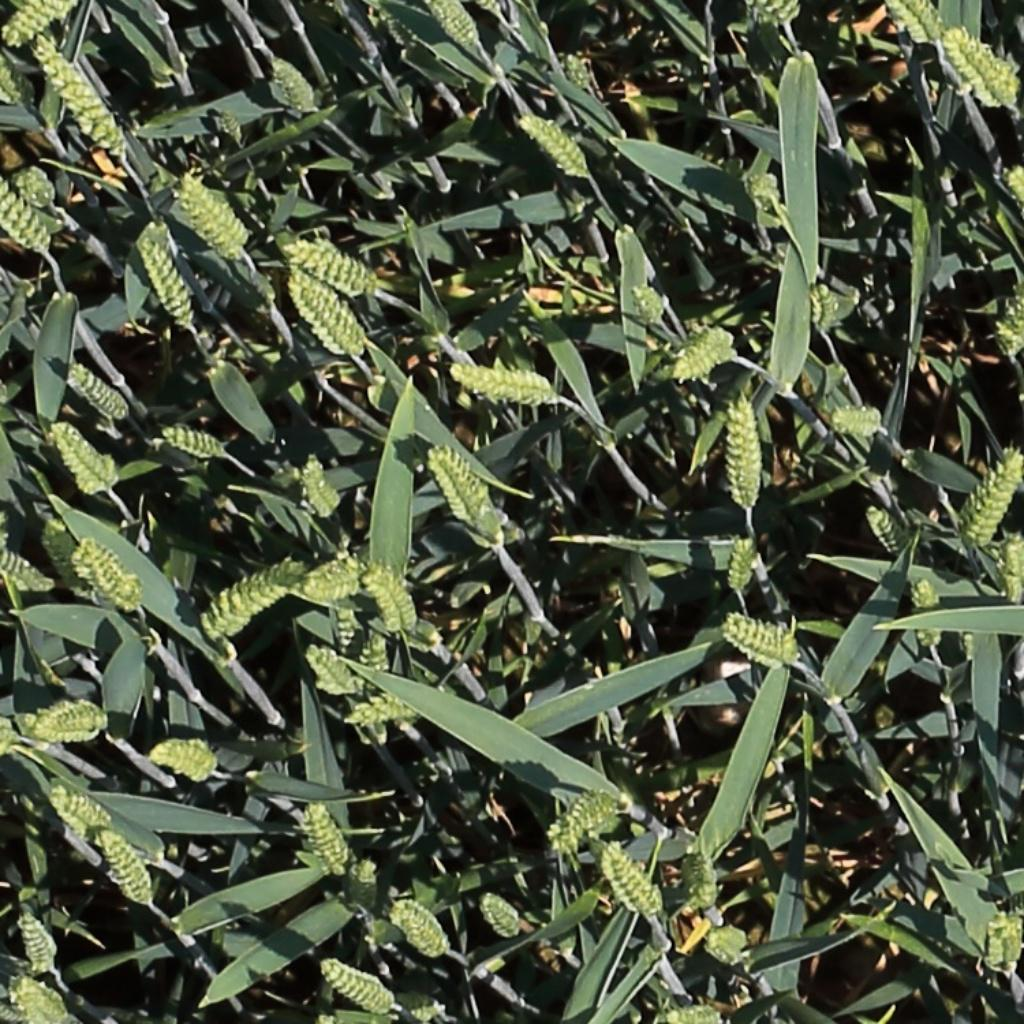0-0: (30, 30, 126, 155), (434, 445, 506, 540), (135, 228, 199, 333), (289, 268, 364, 356), (727, 162, 815, 236), (206, 563, 303, 630), (961, 445, 1022, 551), (946, 24, 1019, 109), (177, 170, 247, 258), (721, 390, 772, 504), (0, 146, 53, 255), (38, 516, 99, 606), (425, 443, 487, 531), (95, 827, 157, 914), (602, 841, 667, 921), (46, 420, 118, 492), (548, 789, 621, 860), (520, 110, 592, 177), (285, 237, 375, 290), (319, 957, 394, 1013), (304, 798, 353, 883), (77, 551, 144, 611), (450, 364, 558, 401), (73, 539, 143, 596), (364, 561, 415, 638), (65, 360, 129, 420), (47, 688, 128, 735), (390, 897, 451, 959), (266, 50, 322, 117), (671, 326, 735, 380), (724, 618, 800, 663), (0, 0, 68, 47), (301, 450, 344, 524), (864, 499, 913, 562), (15, 906, 58, 976), (303, 645, 360, 697), (50, 789, 114, 834), (430, 0, 483, 53), (702, 921, 762, 967), (360, 622, 391, 707), (0, 543, 53, 592), (374, 1, 420, 53), (300, 563, 357, 604), (628, 274, 670, 329), (480, 891, 525, 942), (912, 574, 943, 648), (15, 977, 65, 1022), (679, 838, 712, 906), (830, 404, 887, 443), (159, 424, 226, 457), (897, 1, 944, 47), (148, 746, 219, 776), (994, 921, 1020, 997), (561, 43, 598, 96), (729, 529, 757, 599), (211, 98, 251, 147), (380, 990, 445, 1020), (0, 40, 27, 110), (352, 853, 379, 922), (16, 163, 55, 207), (1002, 527, 1024, 603), (812, 273, 836, 338), (333, 598, 357, 663), (992, 311, 1022, 361), (348, 705, 420, 723), (753, 1, 797, 28), (0, 714, 27, 751), (666, 1008, 724, 1024), (0, 996, 25, 1022)
